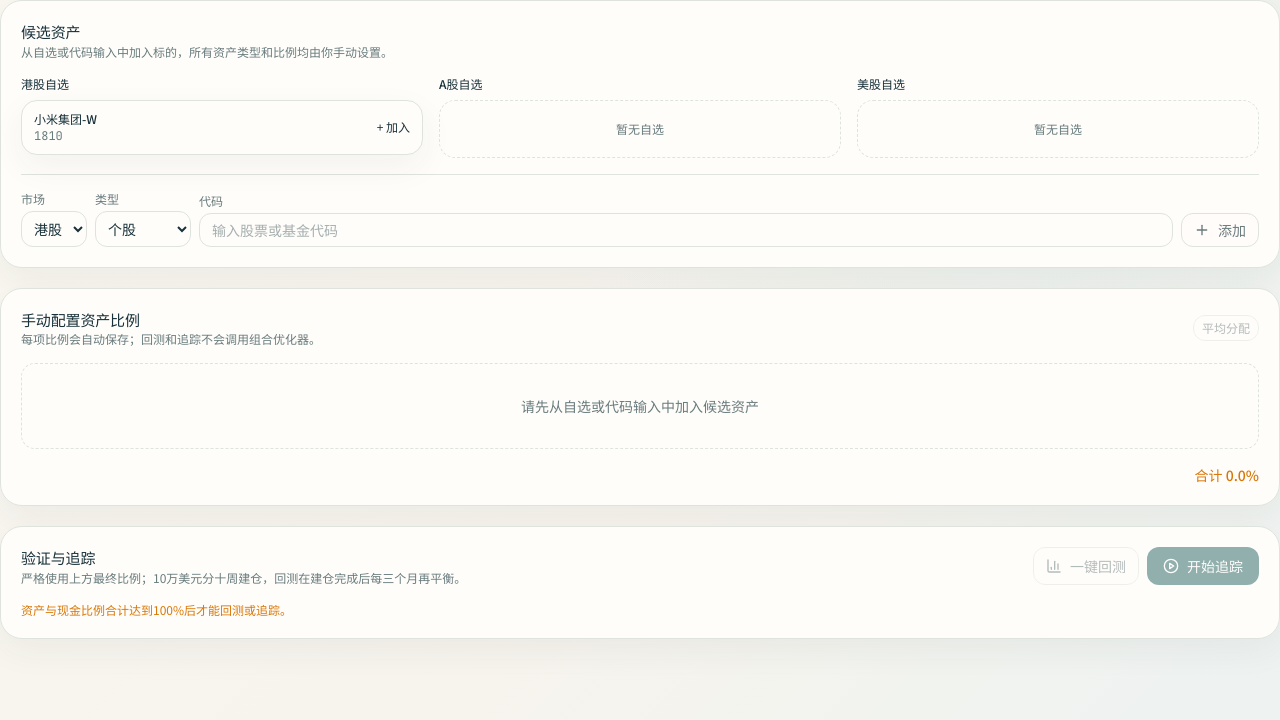
Scenario: adds an asset and exposes only manual allocation controls
This screenshot has width=1280, height=720.
What coordinates should you click on to do the following:
click the button "小米集团-W 1810 + 加入"
I would click on:
 (66, 118)
Its box is [21,100,423,154].
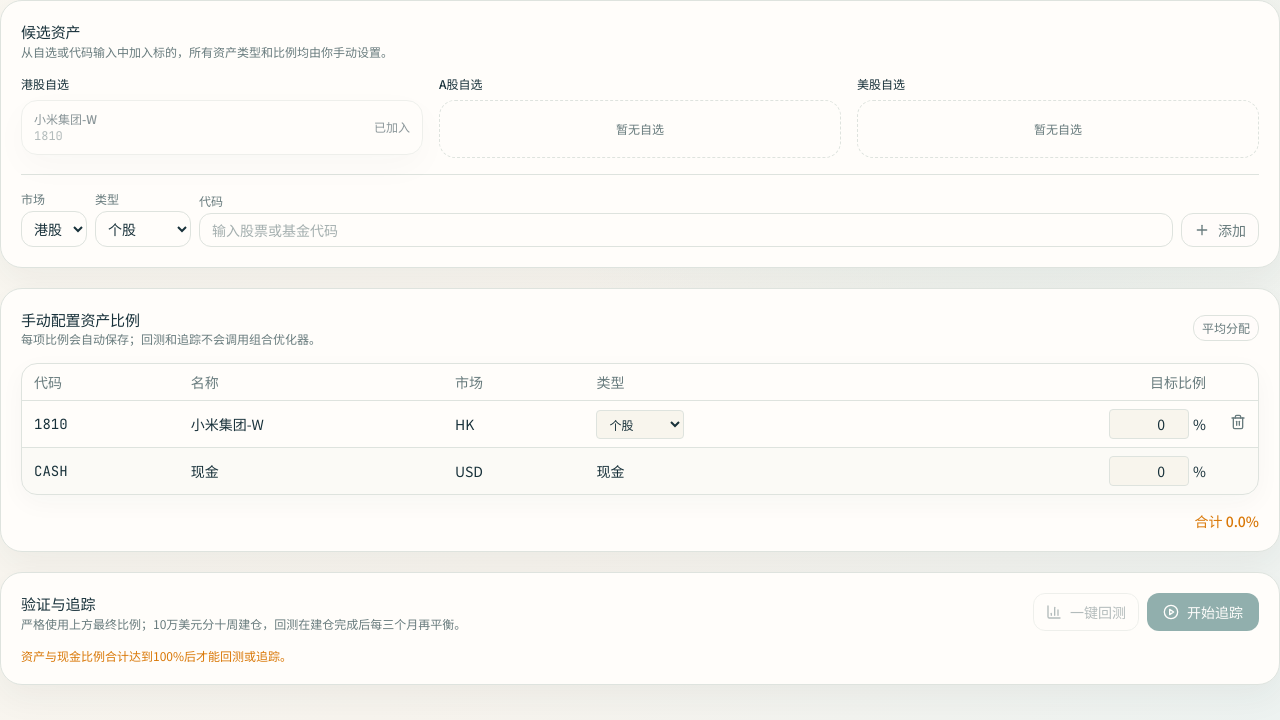
Expected: the heading "手动配置资产比例" is shown, [21,308,140,330]
Result: the number field named "1810 目标比例" is shown at [1109,409,1189,439]
Result: the number field named "现金目标比例" is shown at [1109,456,1189,486]
